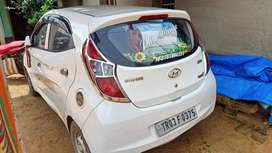TR03F0375: (154, 106, 198, 137)
